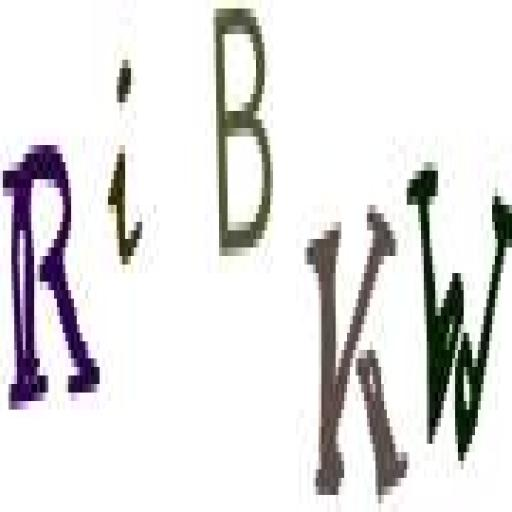B: (208, 0, 276, 278)
K: (304, 195, 417, 512)
R: (0, 128, 104, 421)
W: (409, 141, 510, 473)
i: (101, 52, 147, 292)
